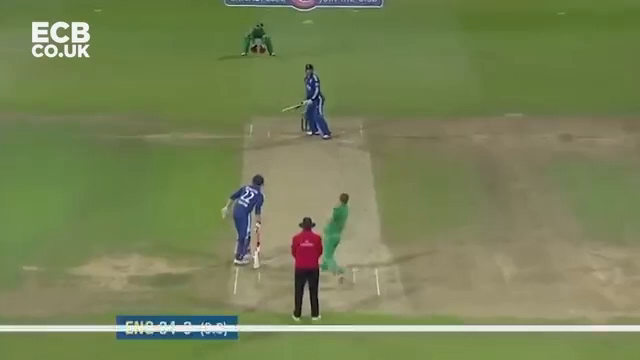Bowler: (327, 194, 356, 294)
Keeper: (239, 20, 279, 61)
Umpire: (286, 216, 325, 324)
batsman: (218, 173, 269, 273), (284, 64, 338, 138)
